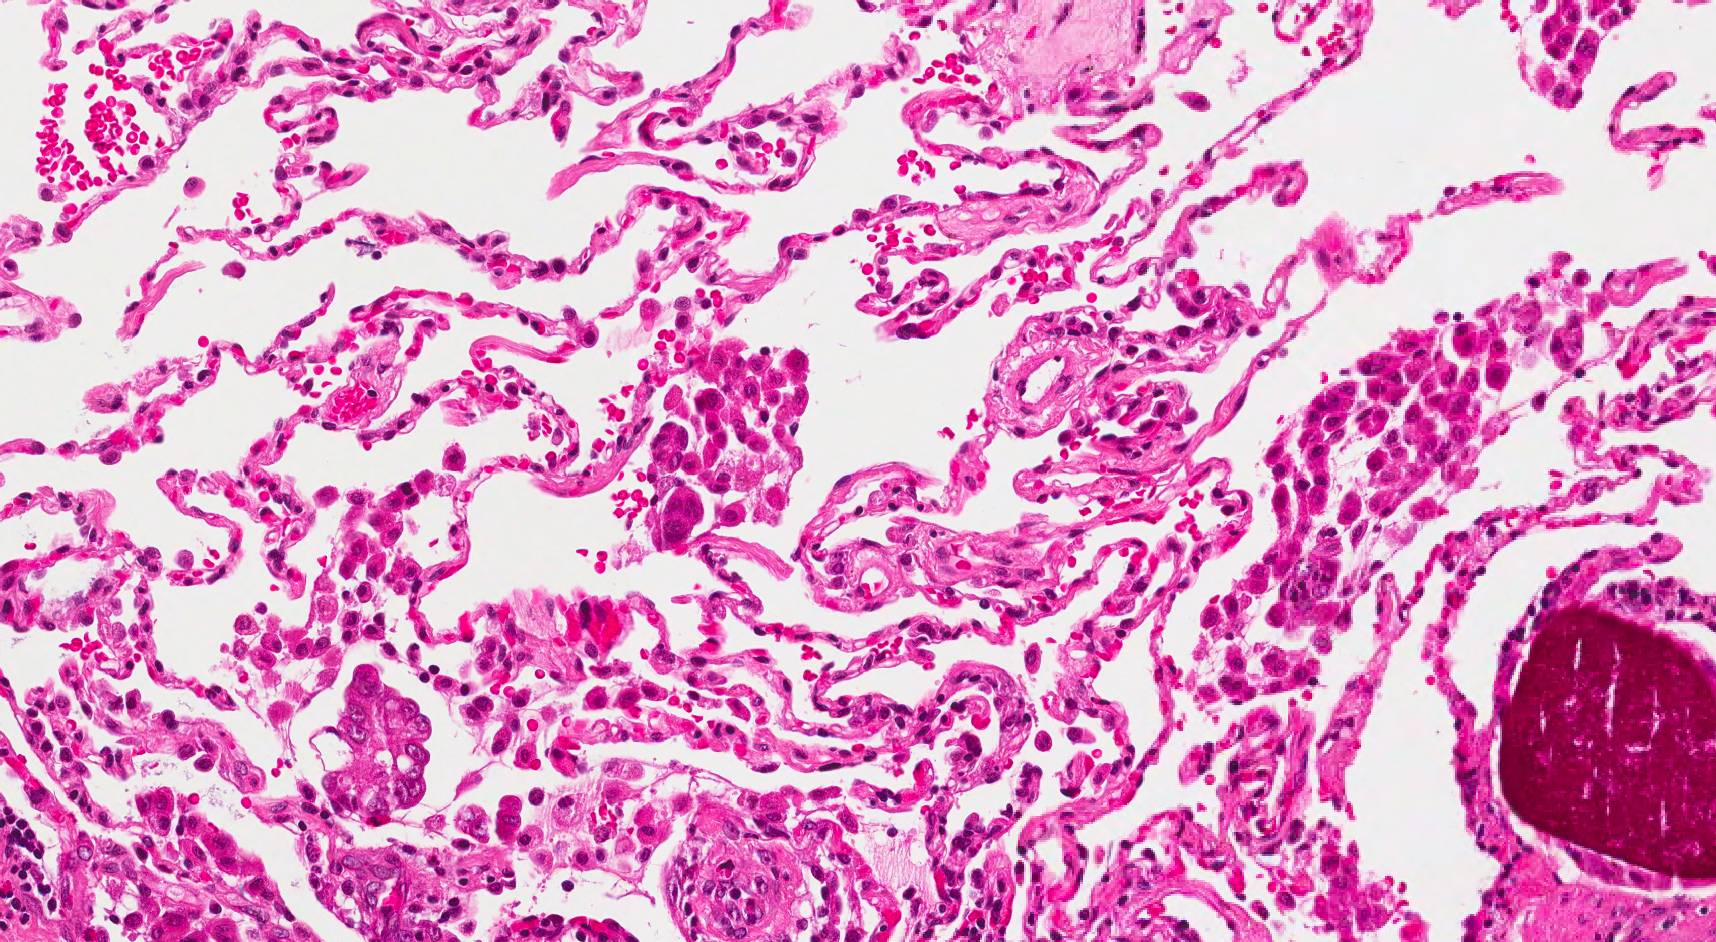stas: (319, 662, 434, 826), (643, 417, 695, 471), (660, 488, 705, 550)
